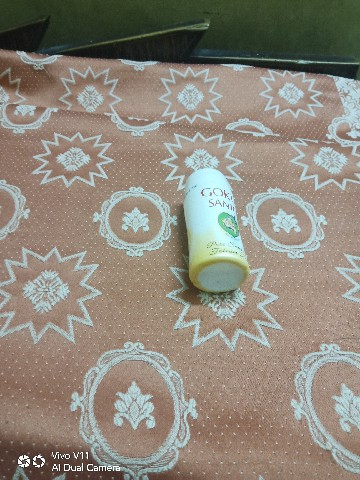gokulsantol small: (173, 153, 259, 298)
